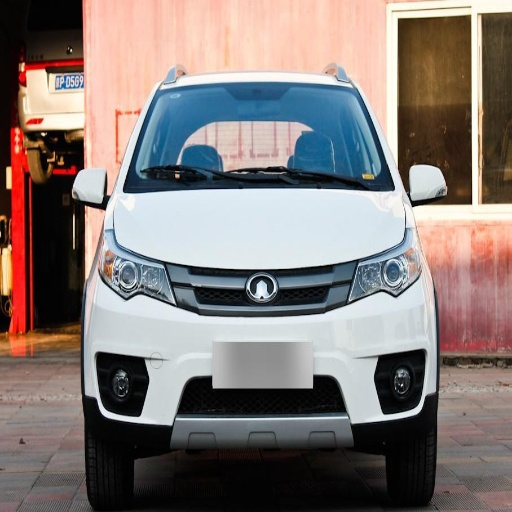front_bumper: (82, 260, 438, 450)
front_right_light: (97, 244, 179, 305)
hood: (111, 191, 406, 269)
left_mirror: (408, 164, 447, 205)
